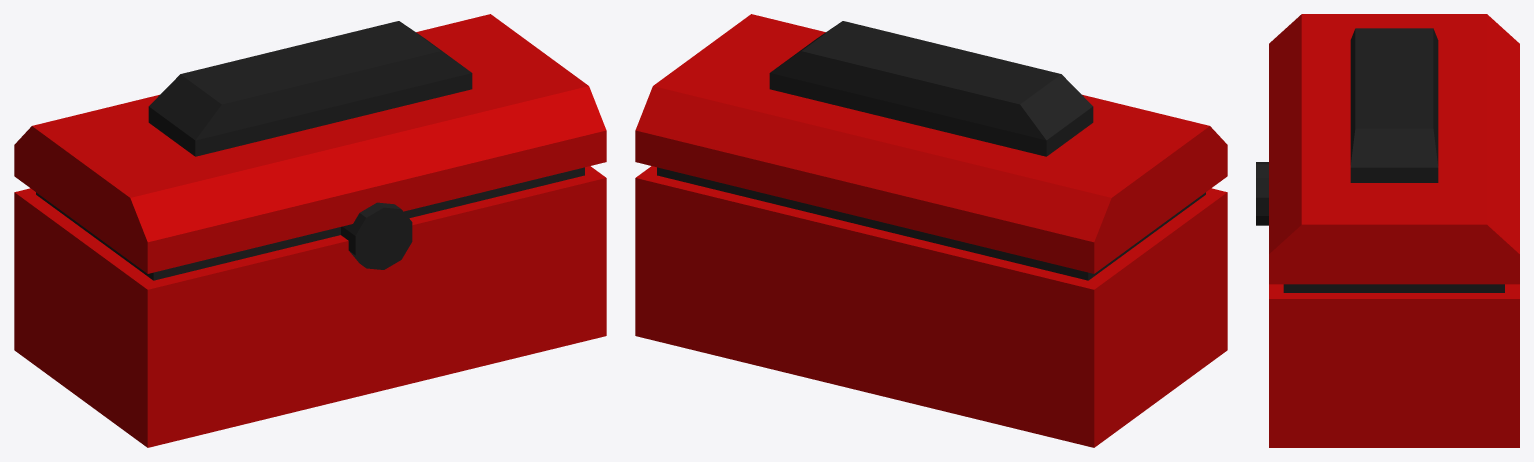
The model's file is Prop_Industrial_Tool_Box_01.FBX.
3 views of the same model, side by side, from view 1: azimuth 30°, elevation 25°; view 2: azimuth 150°, elevation 25°; view 3: azimuth 270°, elevation 25° (orthographic). The views are drawn at different scales.
Parts seen in each view (by area): view 1: Prop_Industrial_Tool_Box_01; view 2: Prop_Industrial_Tool_Box_01; view 3: Prop_Industrial_Tool_Box_01.
Boxes of the visible parts, bbox=[...] form: Prop_Industrial_Tool_Box_01: bbox=[14, 14, 606, 447]; Prop_Industrial_Tool_Box_01: bbox=[635, 14, 1227, 447]; Prop_Industrial_Tool_Box_01: bbox=[1256, 14, 1519, 447].
Size of the model in its own units: 723 by 422 by 383.
